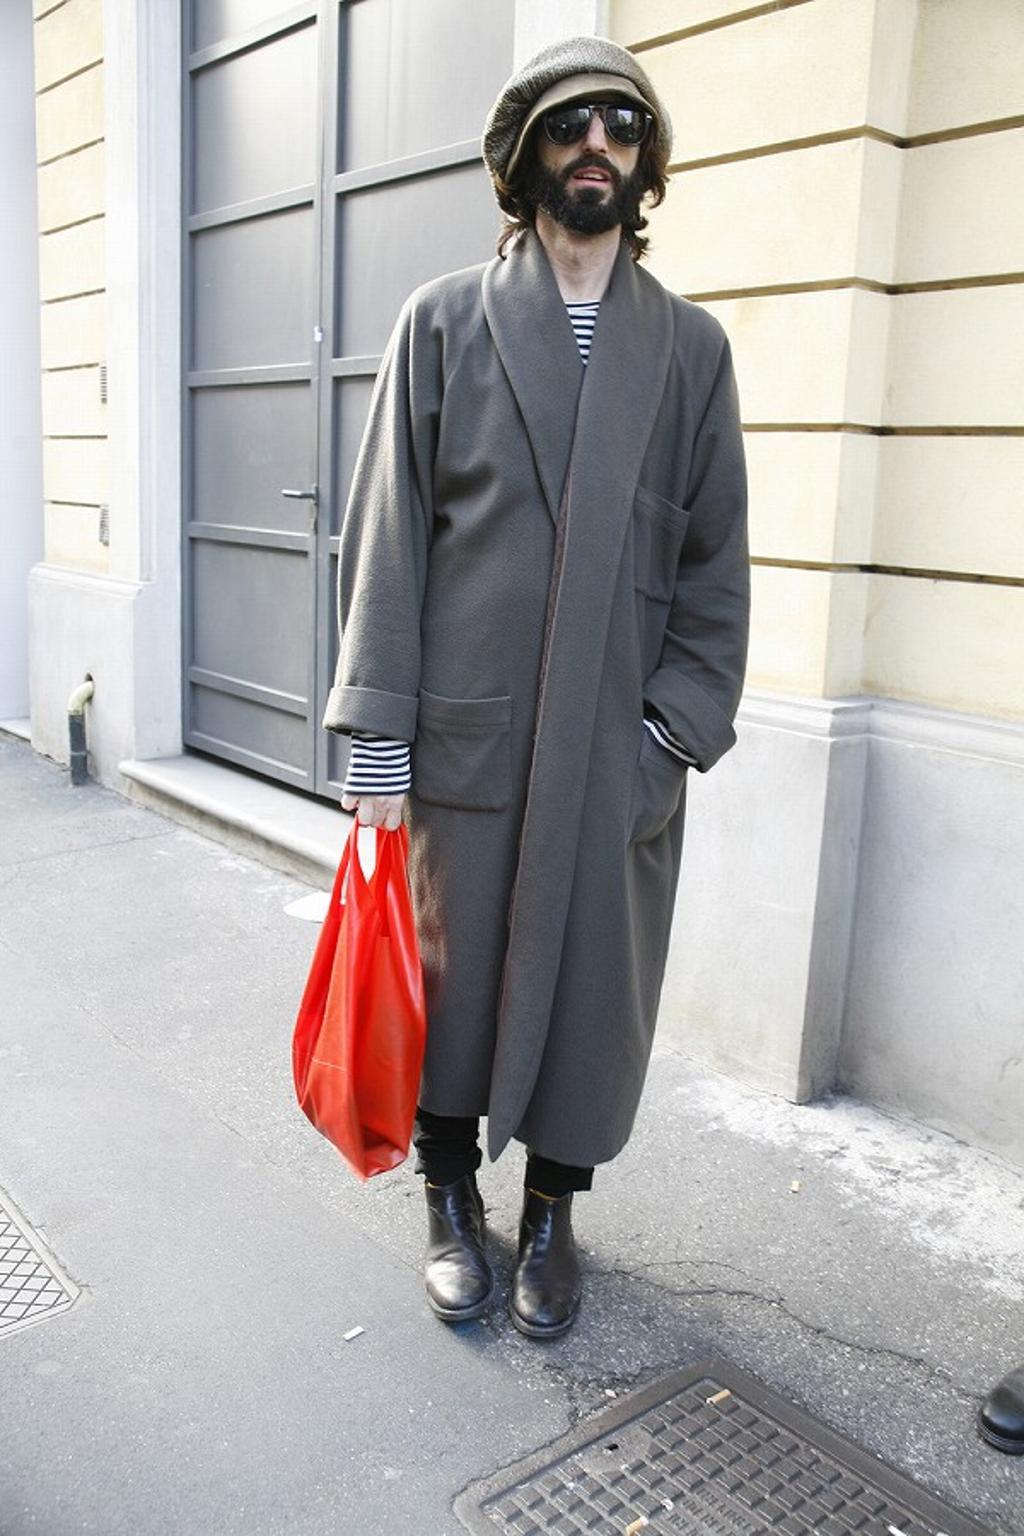face: (526, 81, 649, 231)
